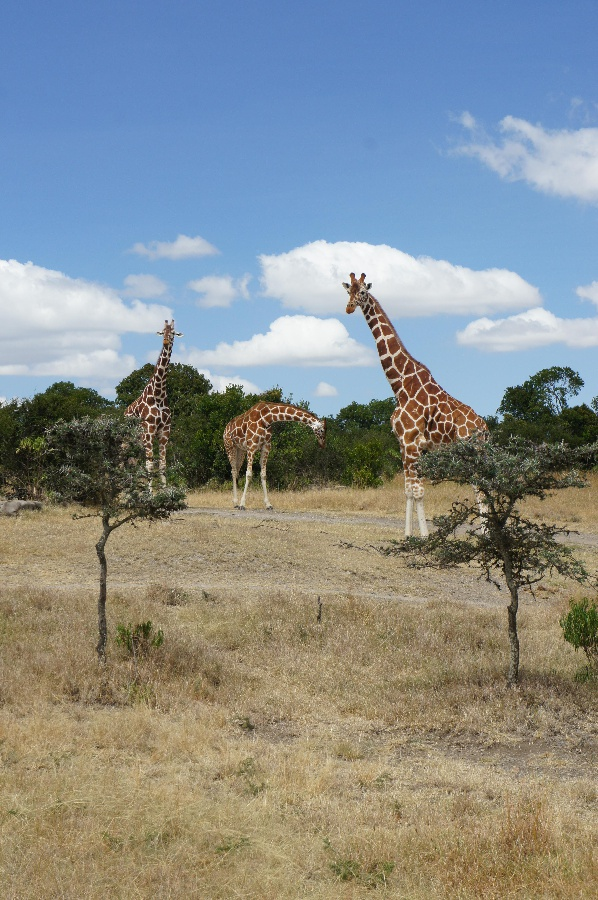giraffe: (341, 262, 508, 540), (105, 308, 189, 517), (227, 392, 330, 513)
